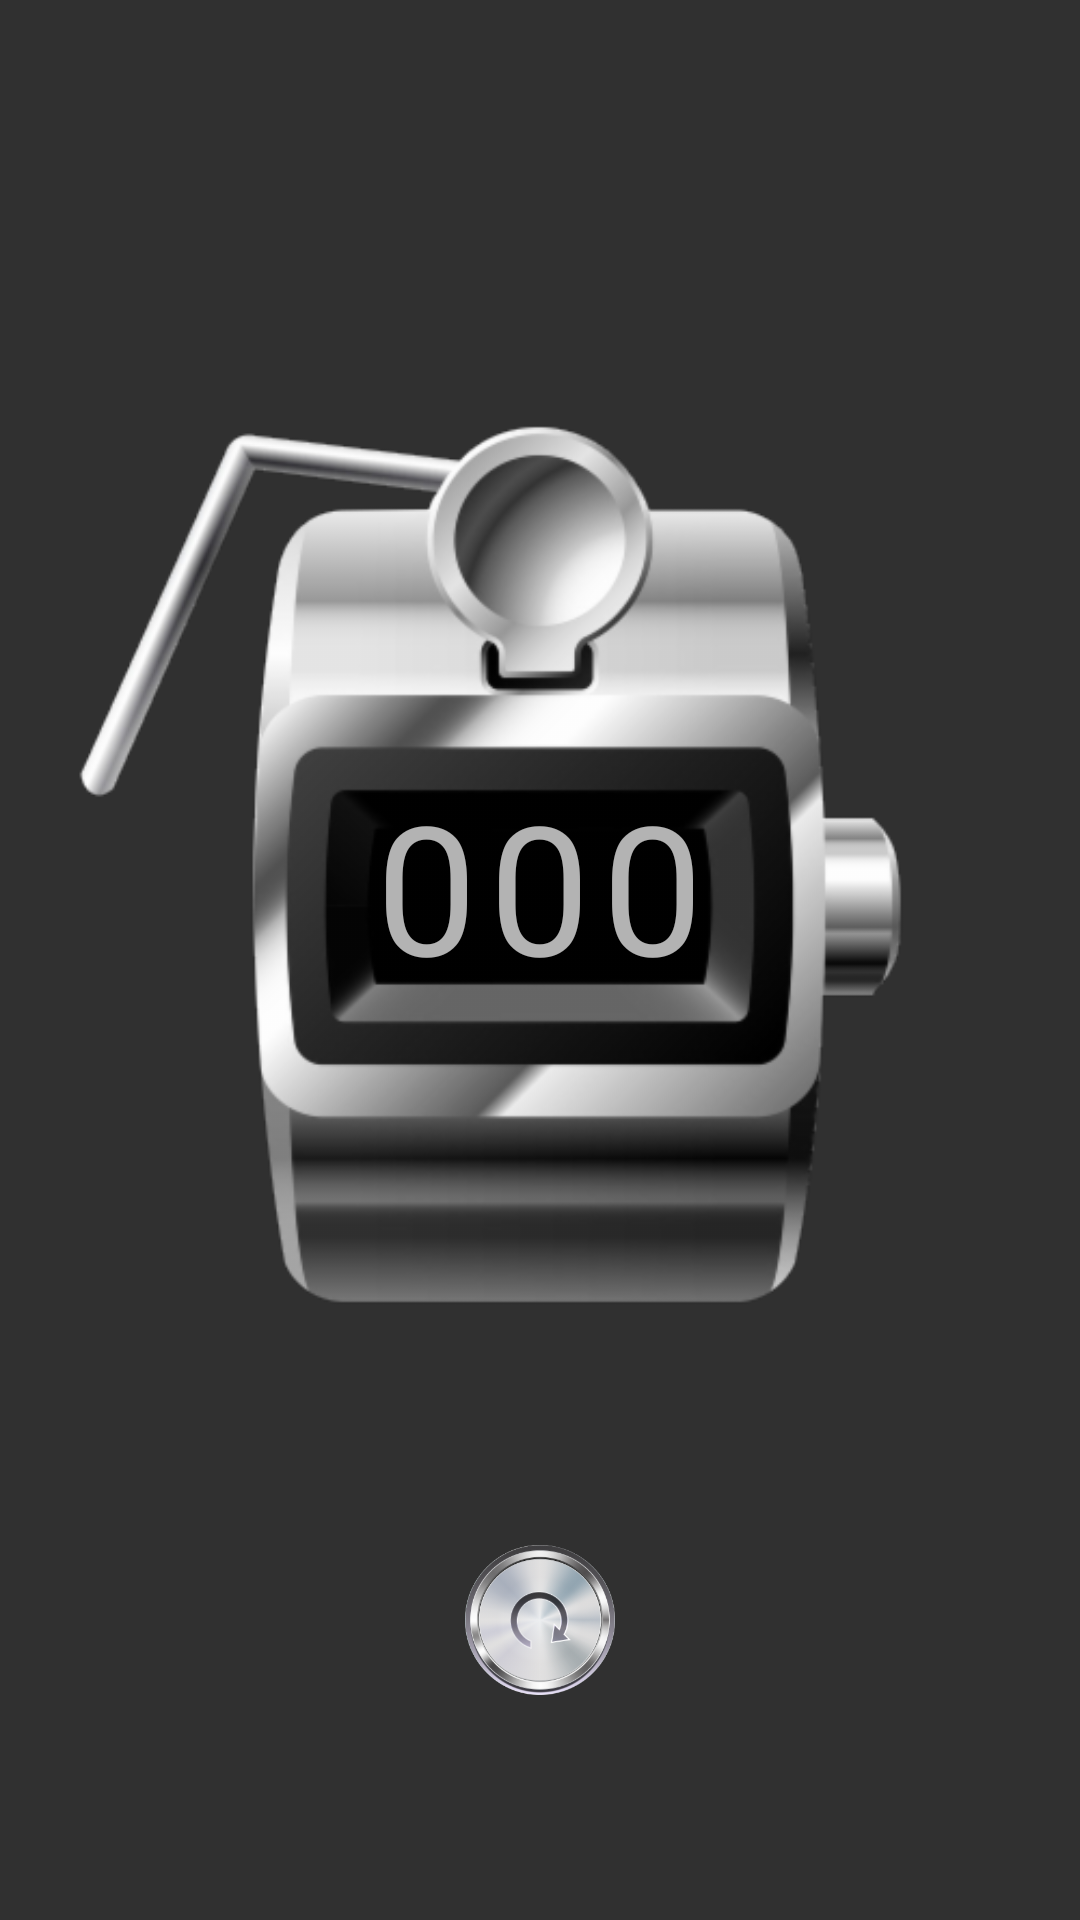

Point at icon controls on the screen. Image size 1080px x 1920px, points as (x,y).
reset: (540,1620)
